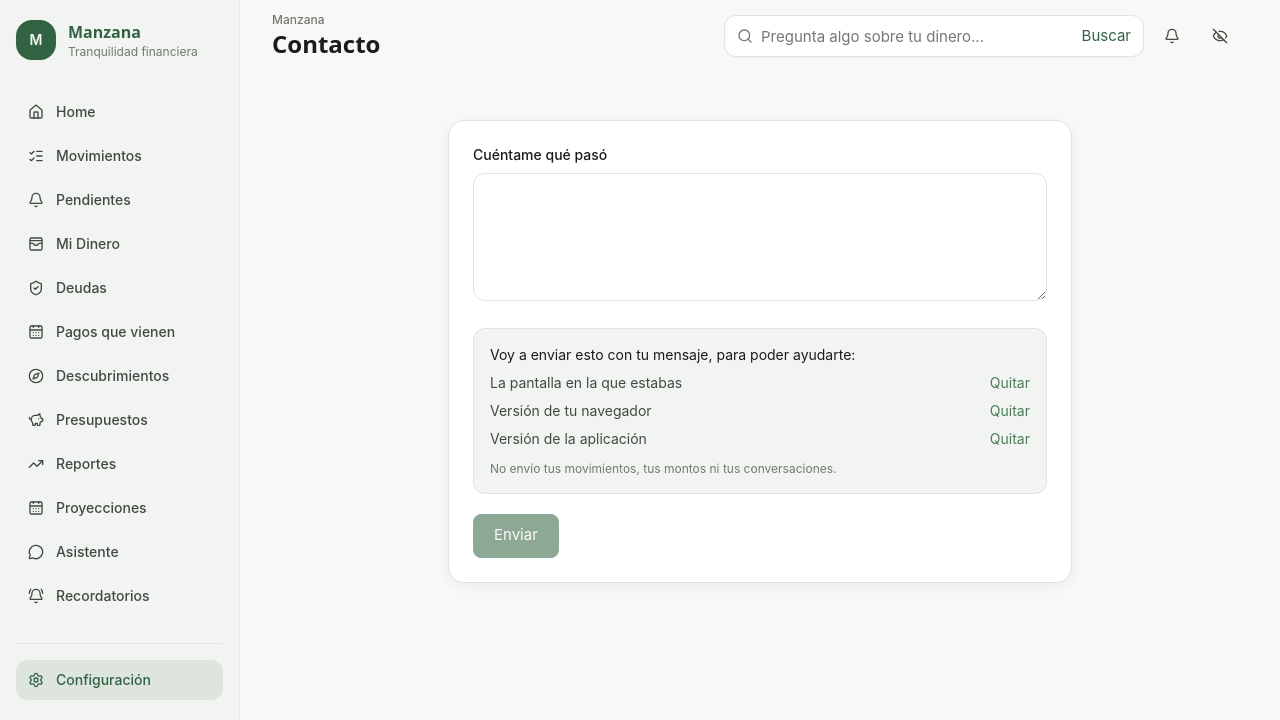
ContactScreen — RUL-AYUDA-09: el usuario ve qué se adjunta antes de enviar › un fallo de red conserva el mensaje escrito (RUL-AUTH-09-style: nunca se pierde lo escrito)
Type "Mi mensaje importante." into the text box labelled "Cuéntame qué pasó" at (760, 237), box [473,173,1047,301]
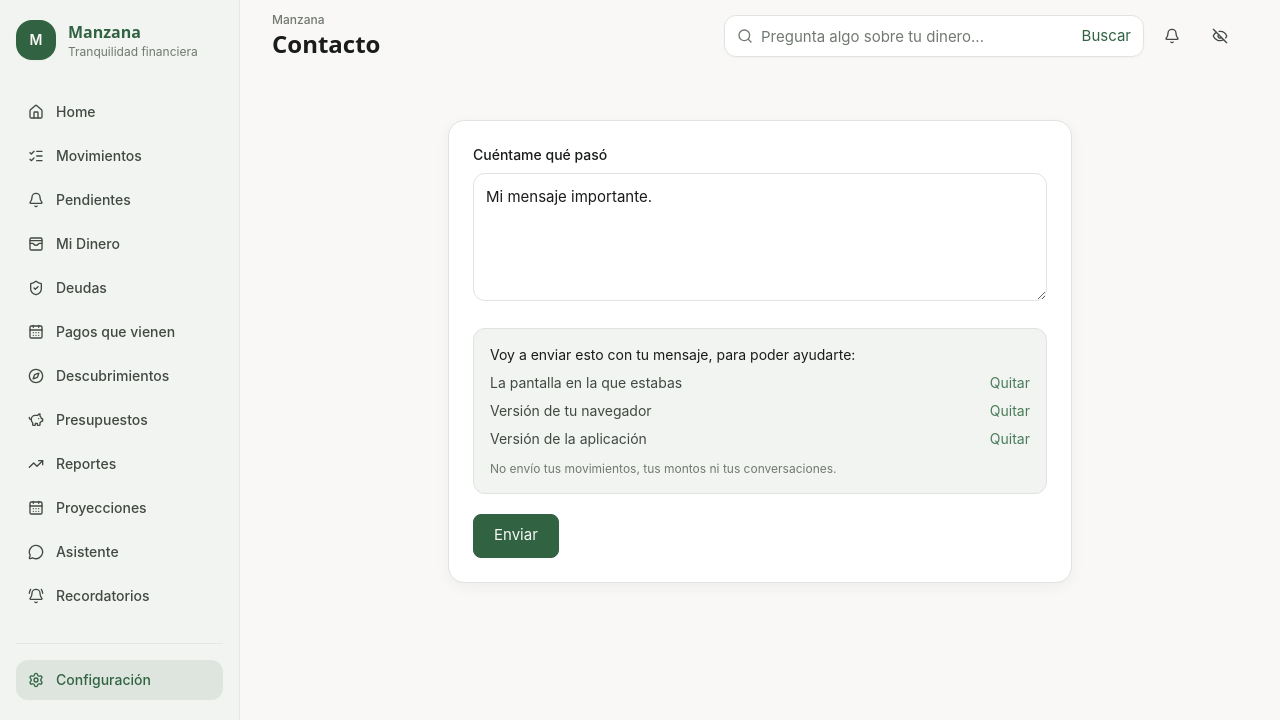
Click the button "Enviar" at (516, 536), box [473,514,559,558]
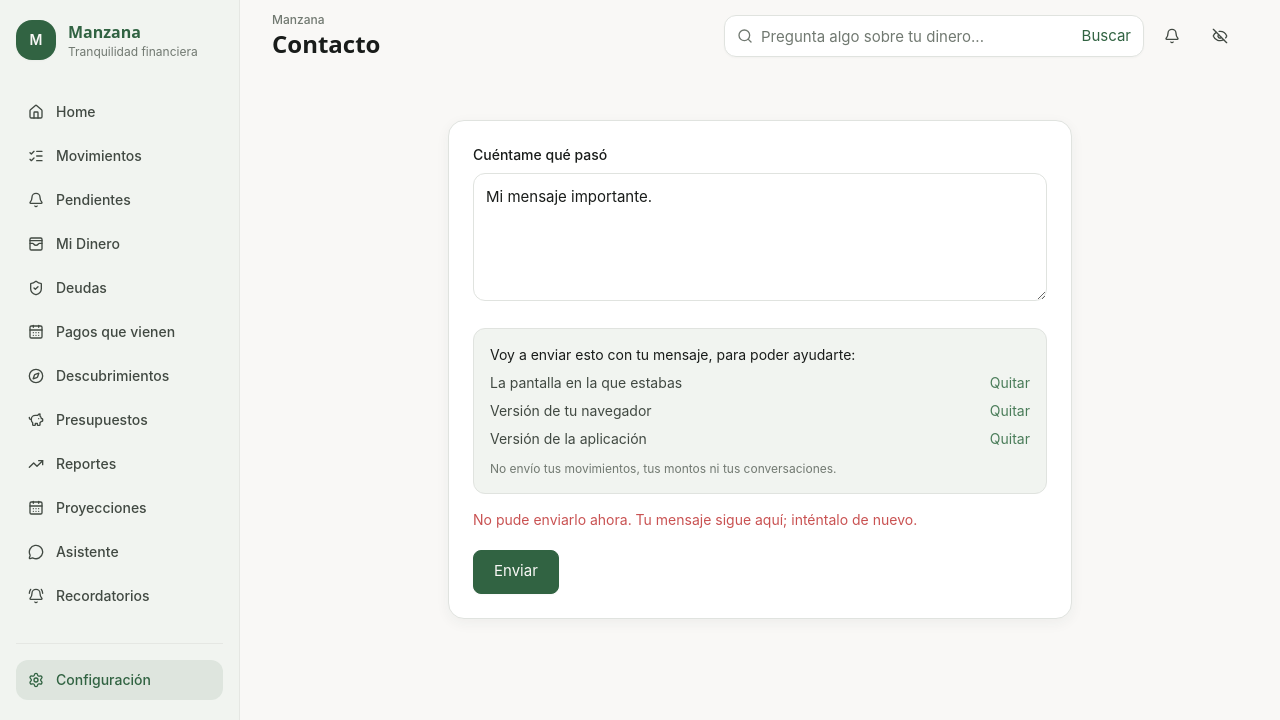
Result: the message "No pude enviarlo ahora. Tu mensaje sigue aquí; inténtalo de nuevo." is shown at [473,510,917,528]
